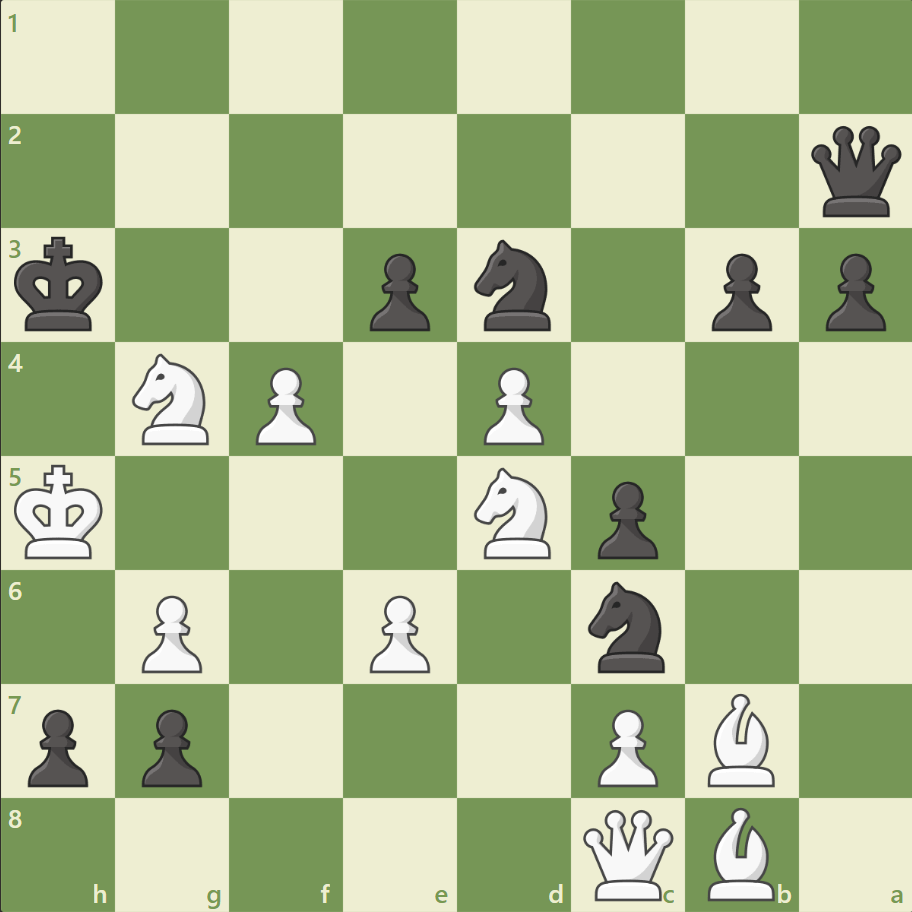B: (698, 801, 782, 904), (698, 687, 782, 790)
K: (11, 458, 111, 566)
N: (124, 348, 222, 450), (465, 461, 562, 564)
P: (133, 586, 208, 677), (474, 359, 549, 450), (247, 359, 322, 450), (588, 700, 662, 791), (361, 586, 435, 677)
Q: (578, 804, 677, 903)
k: (11, 231, 111, 339)
n: (465, 234, 562, 337), (579, 575, 676, 677)
p: (133, 700, 208, 791), (20, 700, 95, 791), (701, 246, 776, 337), (588, 473, 662, 564), (815, 246, 889, 337), (361, 246, 435, 337)
q: (805, 122, 904, 222)
